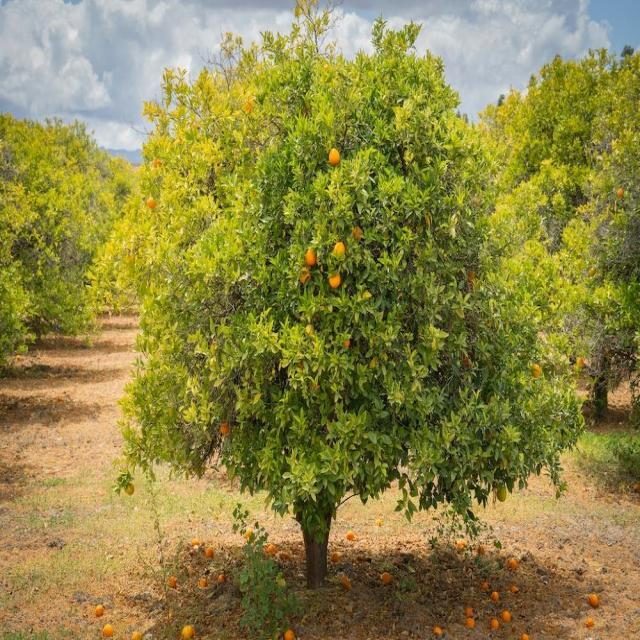Jeruk Belum Matang: (496, 485, 507, 502)
Jeruk Sudah Matang: (328, 270, 342, 288), (306, 247, 318, 265), (334, 242, 346, 258), (300, 266, 310, 284), (329, 148, 340, 164), (146, 197, 158, 210), (220, 420, 230, 434), (531, 364, 540, 378), (245, 100, 255, 111), (153, 156, 162, 168), (126, 484, 134, 496), (576, 358, 584, 368), (618, 187, 624, 199), (588, 268, 596, 276)
